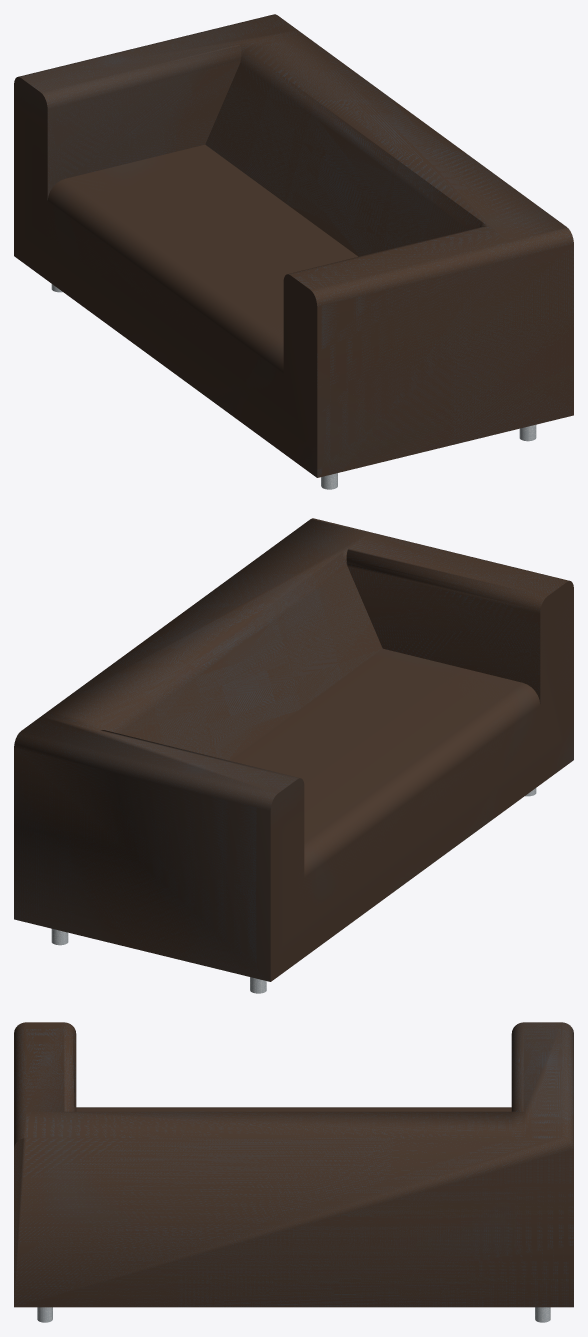
Rendered from sofa.dae.
3 renders of one model, top to bottom at view 1: azimuth 30°, elevation 25°; view 2: azimuth 150°, elevation 25°; view 3: azimuth 270°, elevation 25°, orthographic. The views are drawn at different scales.
Visible parts, largest first — view 1: instance_0; view 2: instance_0; view 3: instance_0.
Part boxes in pixels (x1=…): instance_0: x1=14, y1=14, x2=573, y2=477; instance_0: x1=14, y1=518, x2=573, y2=981; instance_0: x1=14, y1=1022, x2=573, y2=1307.
Size of the model in its own units: 0.88 by 1.8 by 0.69.
5 materials, 1 textured.
